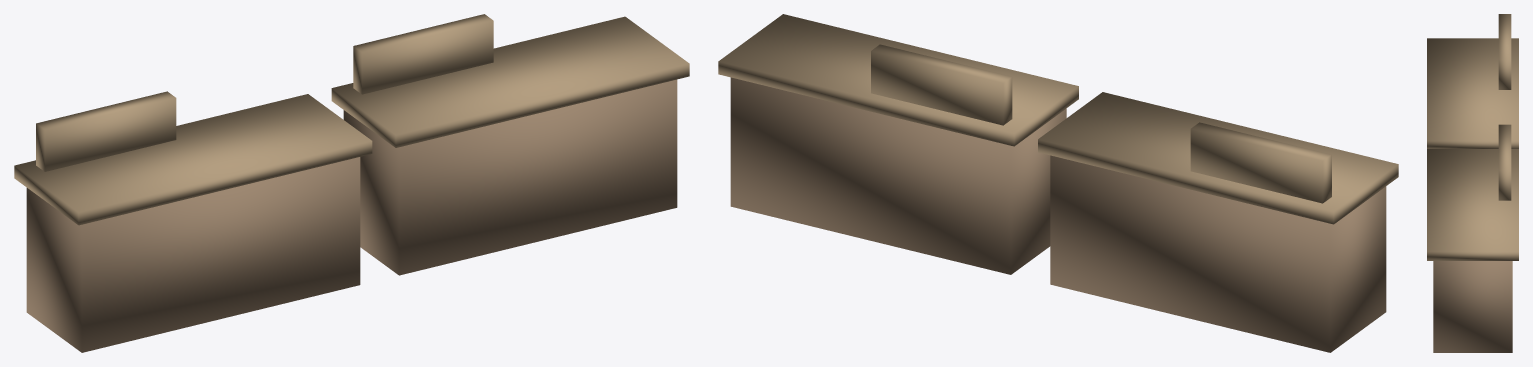
File: security_desk__cluster.glb
3 renders of one model, left to right at view 1: azimuth 30°, elevation 25°; view 2: azimuth 150°, elevation 25°; view 3: azimuth 270°, elevation 25°, orthographic. The views are drawn at different scales.
Parts seen in each view (by area): view 1: world; view 2: world; view 3: world.
Boxes of the visible parts, x1,y1,x2,y2 form: world: (14,14,689,352); world: (718,14,1398,352); world: (1427,14,1518,352).
Bounding box in the file's own units: 3.95 × 1.16 × 0.72.
